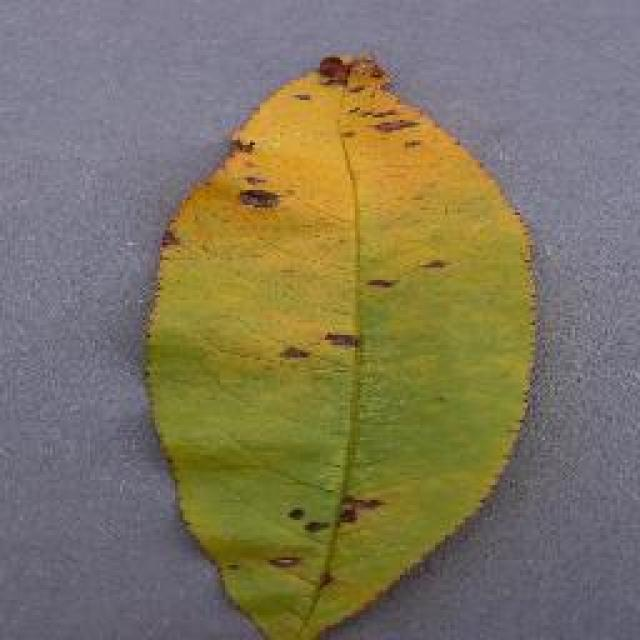Peach_Bacterial_Spot: (240, 55, 410, 598)
